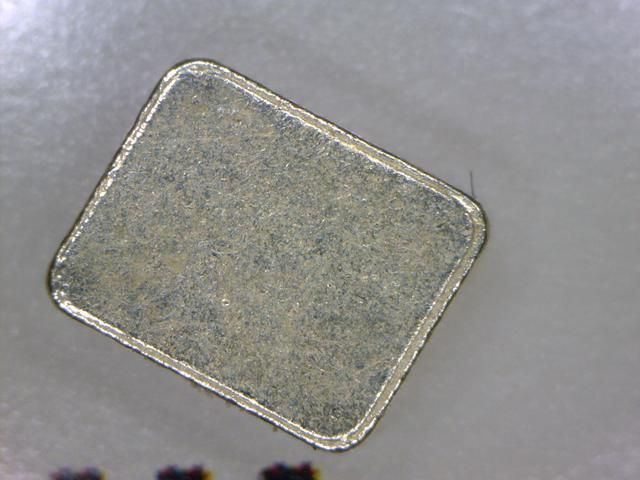nok: (39, 48, 496, 455)
